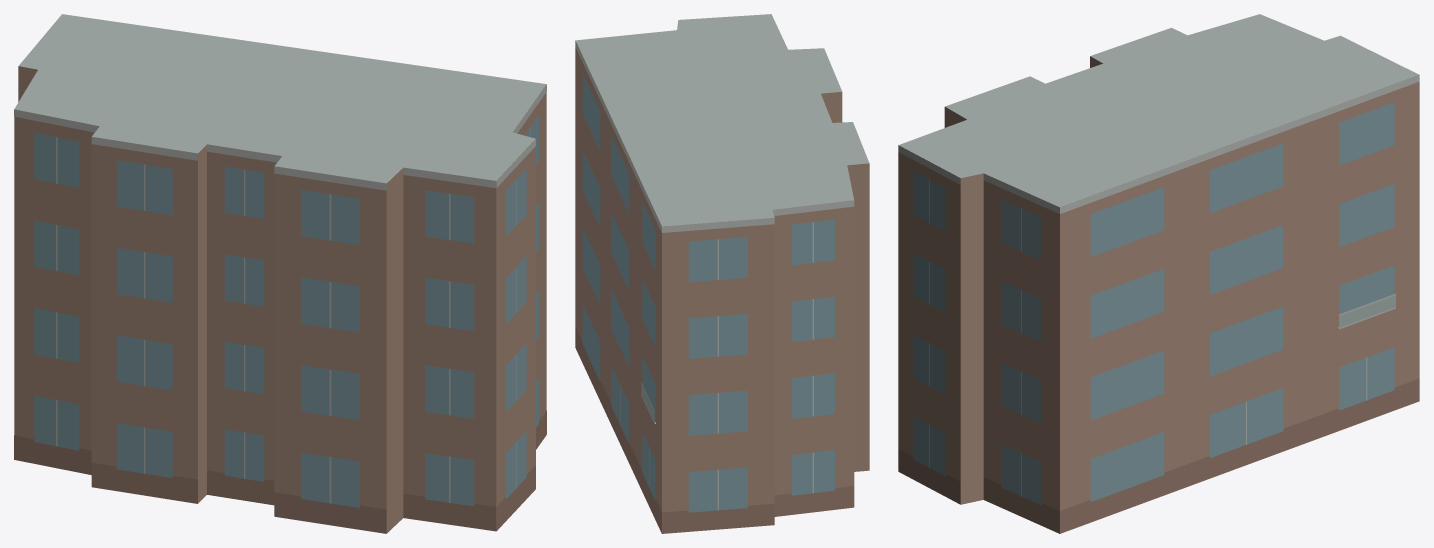
Rendered from survey-upis-33038470.glb.
3 renders of one model, left to right at view 1: azimuth 30°, elevation 25°; view 2: azimuth 150°, elevation 25°; view 3: azimuth 270°, elevation 25°, orthographic. The views are drawn at different scales.
Parts seen in each view (by area): view 1: survey-upis-33038470.tmp; view 2: survey-upis-33038470.tmp; view 3: survey-upis-33038470.tmp.
Boxes of the visible parts, x1,y1,x2,y2 form: survey-upis-33038470.tmp: (14, 14, 546, 533); survey-upis-33038470.tmp: (575, 14, 869, 533); survey-upis-33038470.tmp: (898, 14, 1419, 533).
Size of the model in its own units: 14.87 by 11.7 by 16.93.
